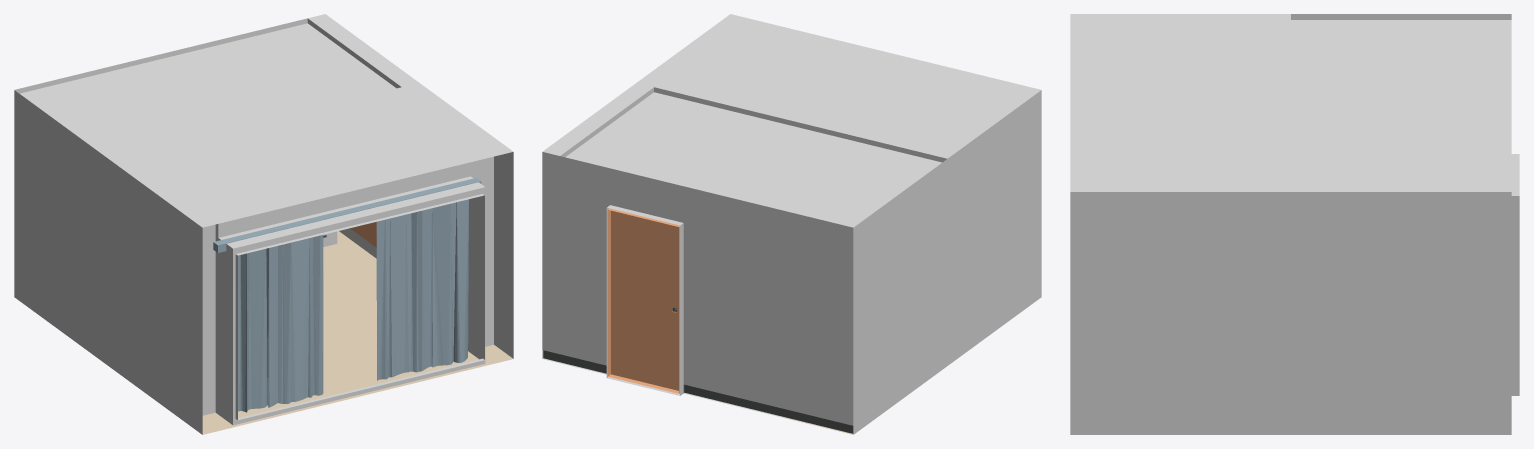
Rendered from hospis2.fbx.
3 views of the same model, side by side, from view 1: azimuth 30°, elevation 25°; view 2: azimuth 150°, elevation 25°; view 3: azimuth 270°, elevation 25° (orthographic). The views are drawn at different scales.
Parts seen in each view (by area): view 1: roof, back_wall_main, window_wall_curtain, window_wall_main, Floor, front_wall_main; view 2: roof, door_wall_main, back_wall_main, door_wall_door; view 3: front_wall_main, roof, door_wall_main.
Part boxes in pixels (left/top/right/bottom): roof: left=15, top=14, right=513, bottom=227; back_wall_main: left=14, top=90, right=202, bottom=434; window_wall_curtain: left=213, top=177, right=481, bottom=412; window_wall_main: left=202, top=156, right=493, bottom=425; Floor: left=202, top=231, right=512, bottom=434; front_wall_main: left=339, top=152, right=513, bottom=358; roof: left=542, top=14, right=1040, bottom=227; door_wall_main: left=542, top=152, right=853, bottom=433; back_wall_main: left=853, top=90, right=1041, bottom=434; door_wall_door: left=607, top=208, right=679, bottom=393; front_wall_main: left=1070, top=192, right=1511, bottom=434; roof: left=1070, top=14, right=1511, bottom=191; door_wall_main: left=1509, top=154, right=1519, bottom=434.
Bounding box in the file's own units: 382 × 243 × 407.
